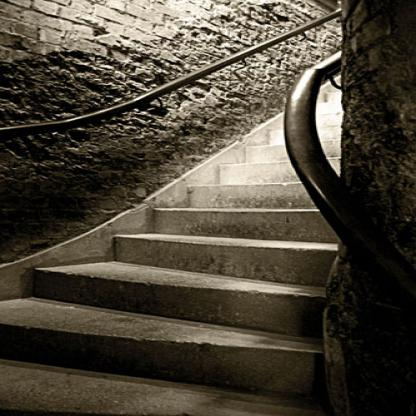stairs: (71, 250, 316, 402)
